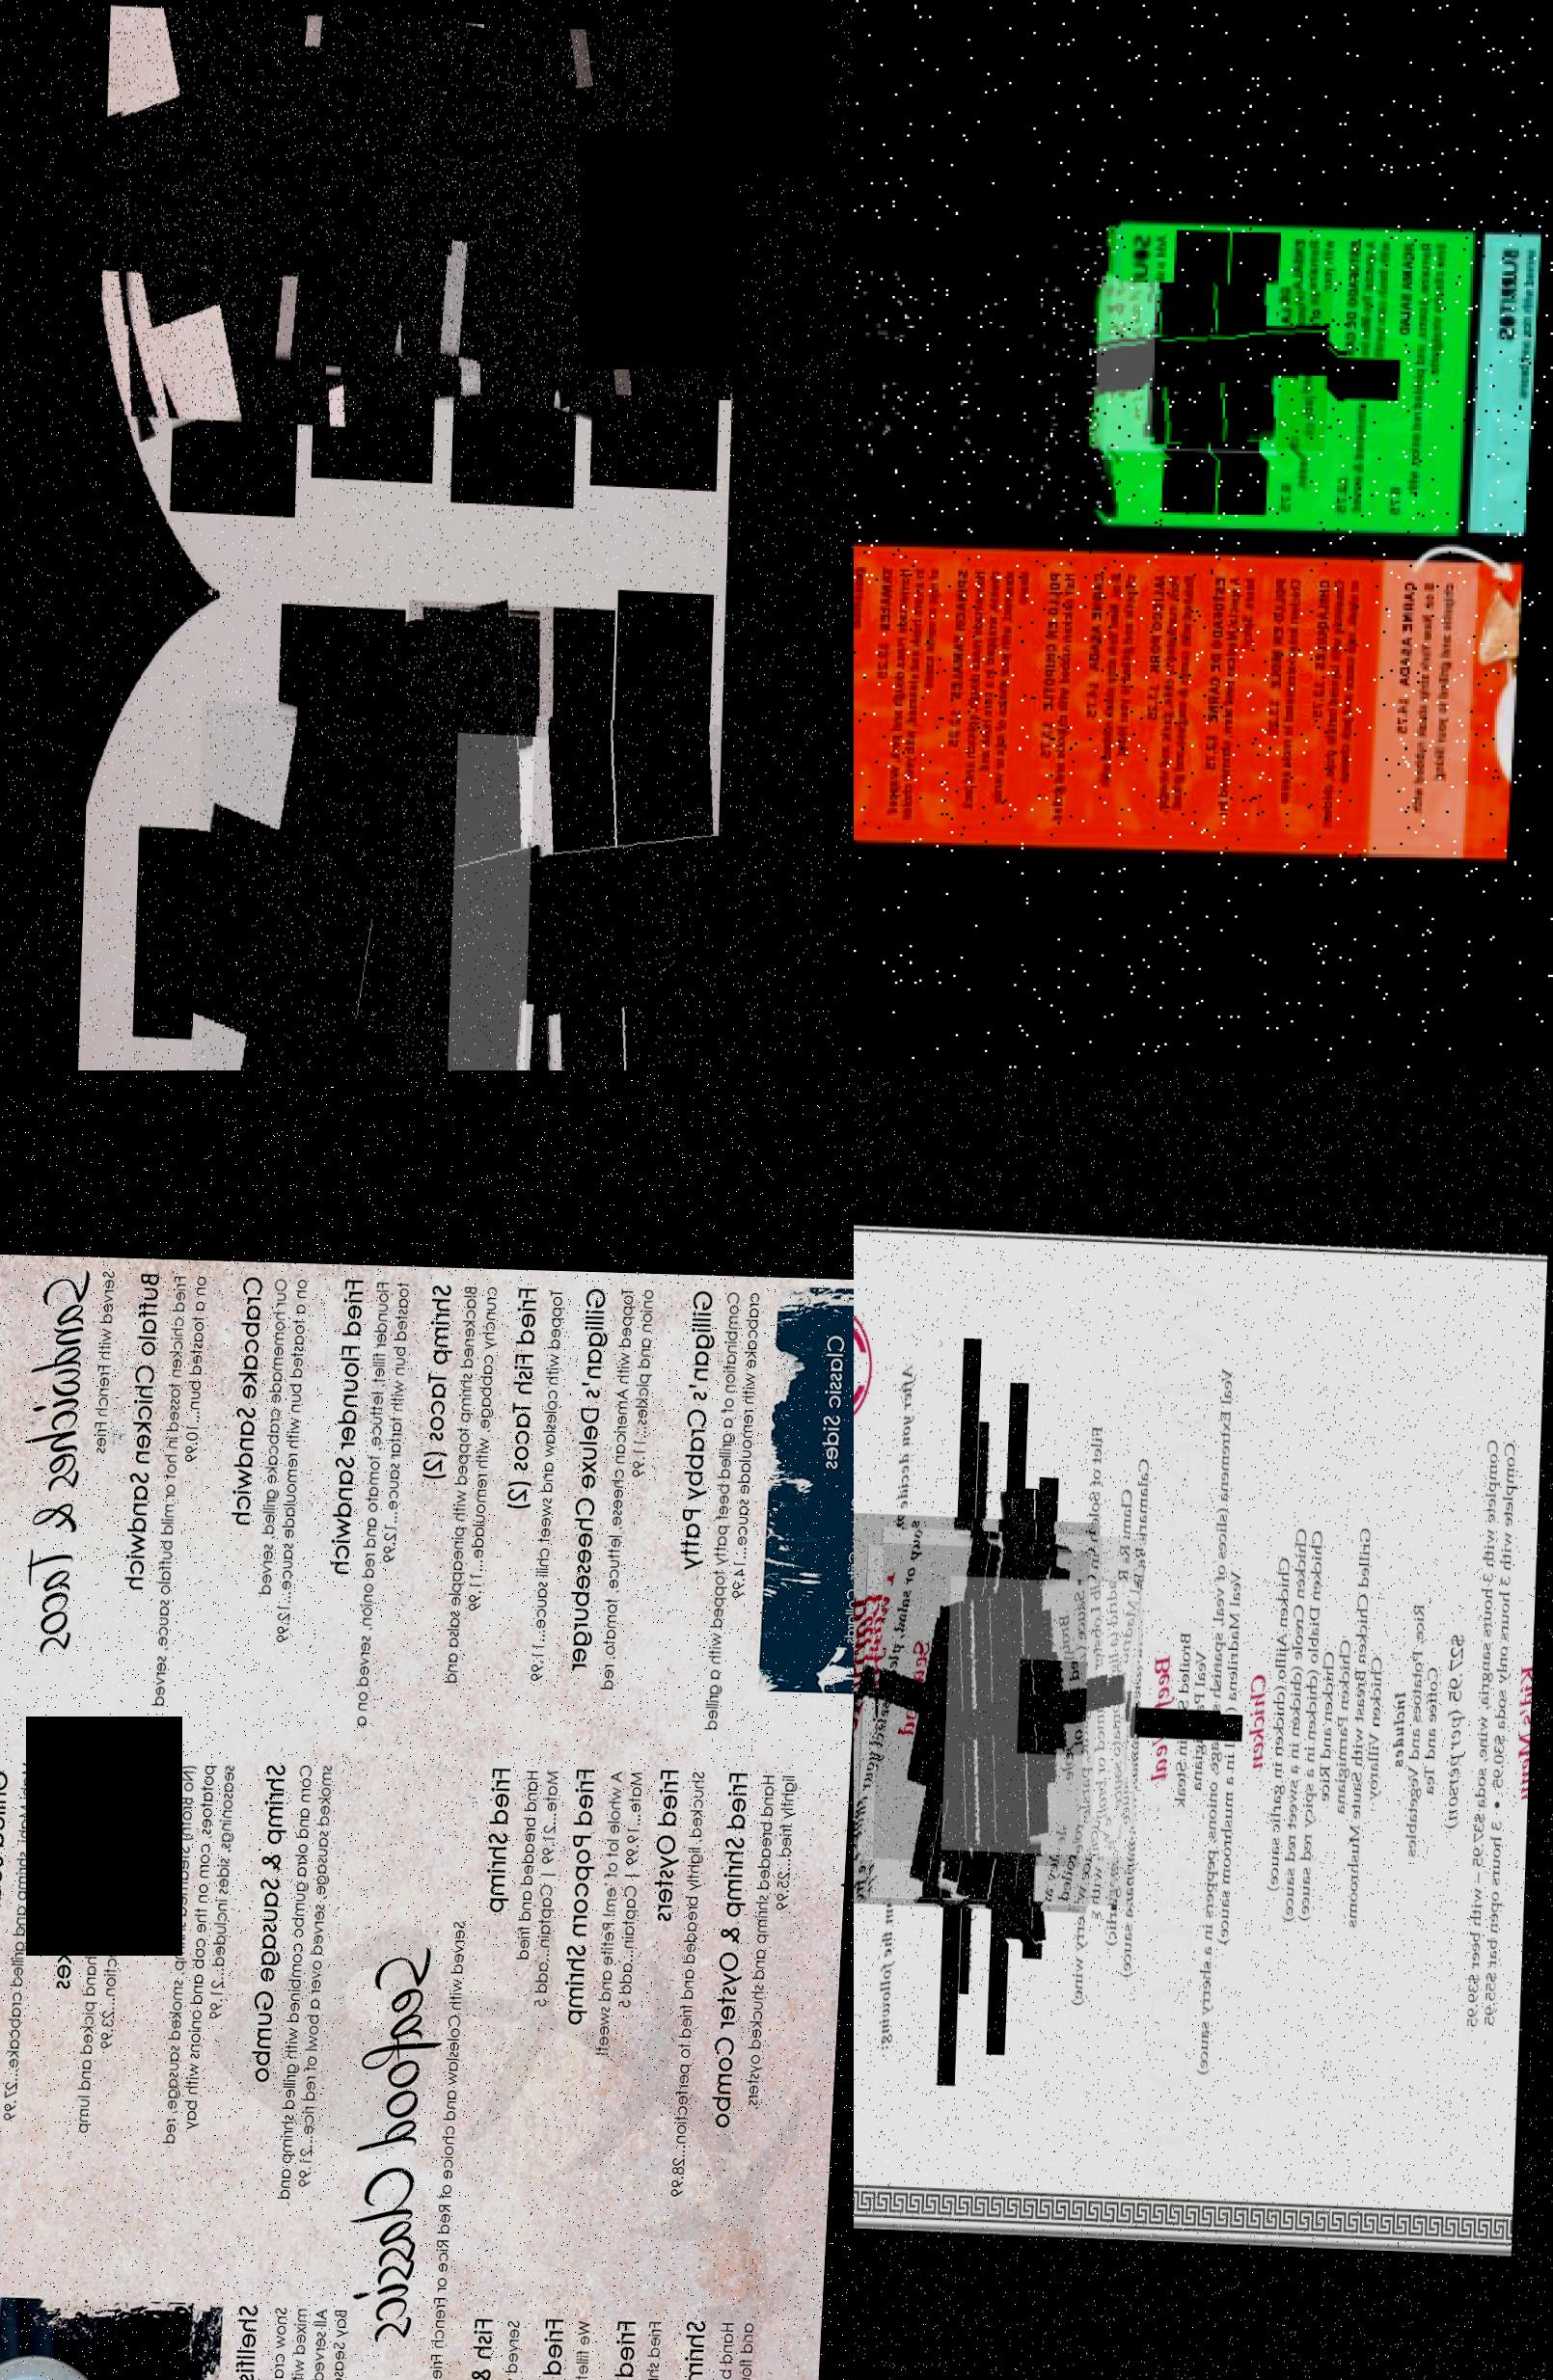Menu-Items: (101, 5, 396, 423), (378, 16, 665, 408), (198, 696, 484, 1070), (878, 1527, 1147, 1906), (854, 1511, 1107, 1910), (250, 10, 512, 371), (453, 727, 708, 1070), (519, 21, 743, 390), (401, 593, 560, 1070), (866, 1546, 1095, 1868), (531, 709, 727, 1070), (134, 1742, 260, 2193), (947, 1577, 1143, 1854), (243, 1752, 356, 2208), (665, 1277, 774, 1738), (404, 1275, 517, 1698), (713, 1752, 833, 2148), (127, 1265, 227, 1721), (45, 1729, 146, 2184), (217, 1256, 330, 1657), (326, 1259, 416, 1735), (566, 1272, 668, 1681), (640, 1750, 729, 2224), (928, 276, 1126, 460), (880, 276, 1078, 458), (1104, 279, 1298, 458), (562, 1738, 659, 2089), (500, 1263, 580, 1686), (1199, 1357, 1242, 2089), (854, 274, 1031, 453), (474, 1738, 586, 2016), (1164, 284, 1347, 454), (923, 1608, 1067, 1813), (1036, 224, 1126, 519), (864, 557, 956, 826), (0, 1745, 57, 2170), (949, 557, 1045, 807), (1003, 1487, 1055, 1941), (1385, 227, 1465, 513), (1123, 1452, 1161, 1983), (1390, 564, 1468, 819), (1076, 1421, 1109, 2007), (854, 283, 972, 444), (1277, 232, 1341, 519), (1334, 232, 1399, 510), (1308, 560, 1371, 831), (854, 269, 937, 458), (1034, 562, 1093, 827), (1206, 566, 1267, 822), (1111, 1476, 1140, 1957), (1147, 564, 1202, 817), (1086, 562, 1145, 798), (1286, 1516, 1315, 1924), (1261, 566, 1310, 810), (1220, 1563, 1249, 1952), (1300, 1525, 1327, 1932), (1409, 1592, 1447, 1877), (1350, 1513, 1376, 1929), (1270, 1540, 1298, 1899), (906, 1657, 986, 1769), (1093, 1549, 1119, 1884), (533, 2295, 619, 2380), (1022, 1657, 1091, 1756), (469, 2290, 543, 2380), (854, 553, 873, 814), (1062, 1615, 1088, 1804), (1176, 1625, 1199, 1818), (1194, 1631, 1216, 1808), (1338, 1625, 1357, 1816), (1320, 1636, 1341, 1804), (1371, 1650, 1388, 1799)
